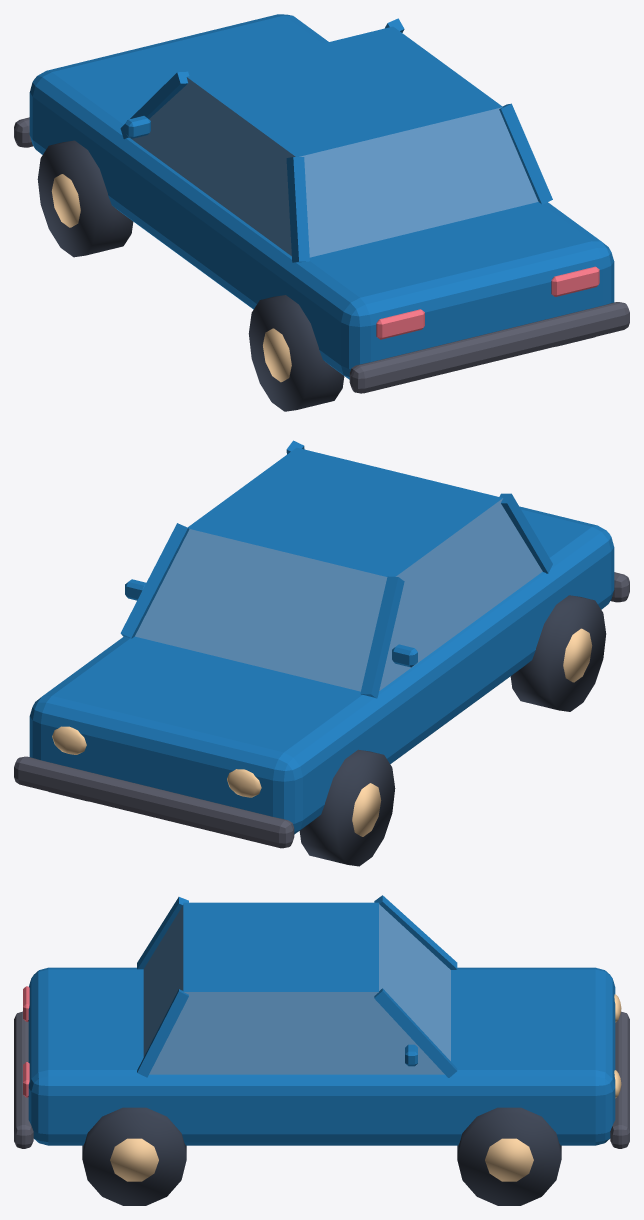
File: car_blue.glb
3 renders of one model, top to bottom at view 1: azimuth 30°, elevation 25°; view 2: azimuth 150°, elevation 25°; view 3: azimuth 270°, elevation 25°, orthographic. The views are drawn at different scales.
Parts seen in each view (by area): view 1: car, car_cabin, car_bumper1, car_wheel0, car_wheel2, car_cabin_post0, car_cabin_post1, car_hub2, car_hub0, car_tail1, car_tail0, car_cabin_post3; view 2: car_cabin, car, car_bumper0, car_wheel2, car_wheel0, car_cabin_post3, car_cabin_post2, car_cabin_post0, car_hub0, car_hub2, car_light1, car_light0; view 3: car, car_cabin, car_wheel1, car_wheel3, car_bumper0, car_bumper1, car_hub1, car_hub3, car_cabin_post2, car_cabin_post1, car_cabin_post3, car_cabin_post0.
Boxes of the visible parts, left/top/right/bottom form: car: left=29, top=14, right=614, bottom=379; car_cabin: left=129, top=26, right=538, bottom=257; car_bumper1: left=349, top=302, right=629, bottom=393; car_wheel0: left=37, top=140, right=133, bottom=257; car_wheel2: left=248, top=295, right=344, bottom=411; car_cabin_post0: left=286, top=157, right=309, bottom=262; car_cabin_post1: left=499, top=103, right=552, bottom=204; car_hub2: left=263, top=328, right=291, bottom=382; car_hub0: left=51, top=174, right=80, bottom=227; car_tail1: left=551, top=266, right=599, bottom=296; car_tail0: left=376, top=309, right=424, bottom=339; car_cabin_post3: left=120, top=71, right=189, bottom=139; car_cabin: left=135, top=447, right=542, bottom=691; car: left=29, top=506, right=614, bottom=834; car_bumper0: left=14, top=756, right=294, bottom=848; car_wheel2: left=510, top=595, right=606, bottom=711; car_wheel0: left=299, top=749, right=395, bottom=866; car_cabin_post3: left=360, top=576, right=404, bottom=698; car_cabin_post2: left=120, top=523, right=189, bottom=638; car_cabin_post0: left=499, top=493, right=552, bottom=573; car_hub0: left=352, top=783, right=381, bottom=836; car_hub2: left=563, top=628, right=592, bottom=682; car_light1: left=52, top=726, right=86, bottom=754; car_light0: left=227, top=769, right=261, bottom=797; car: left=28, top=967, right=615, bottom=1145; car_cabin: left=143, top=902, right=450, bottom=1074; car_wheel1: left=457, top=1107, right=561, bottom=1205; car_wheel3: left=82, top=1107, right=186, bottom=1205; car_bumper0: left=610, top=1011, right=629, bottom=1148; car_bumper1: left=14, top=1011, right=33, bottom=1148; car_hub1: left=485, top=1138, right=533, bottom=1181; car_hub3: left=110, top=1138, right=158, bottom=1181; car_cabin_post2: left=374, top=988, right=457, bottom=1077; car_cabin_post1: left=137, top=989, right=188, bottom=1077; car_cabin_post3: left=374, top=895, right=457, bottom=969; car_cabin_post0: left=137, top=897, right=188, bottom=969.
Bounding box in the file's own units: 1.9 × 1.34 × 3.78.
